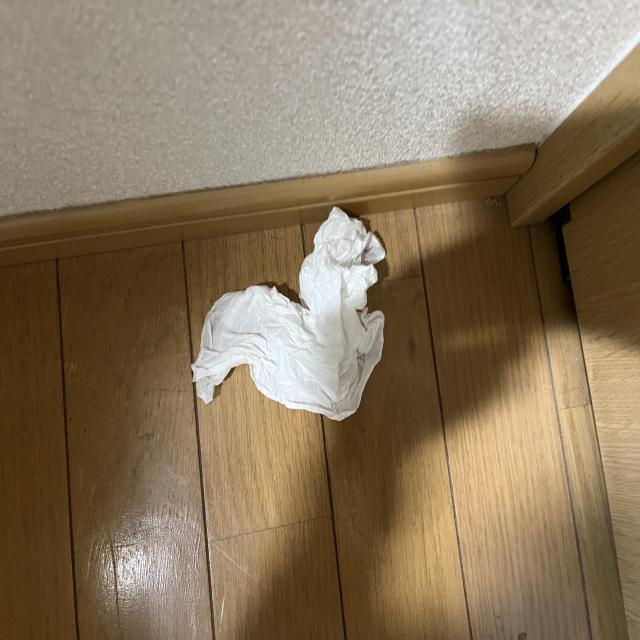衛生紙: (190, 206, 388, 422)
